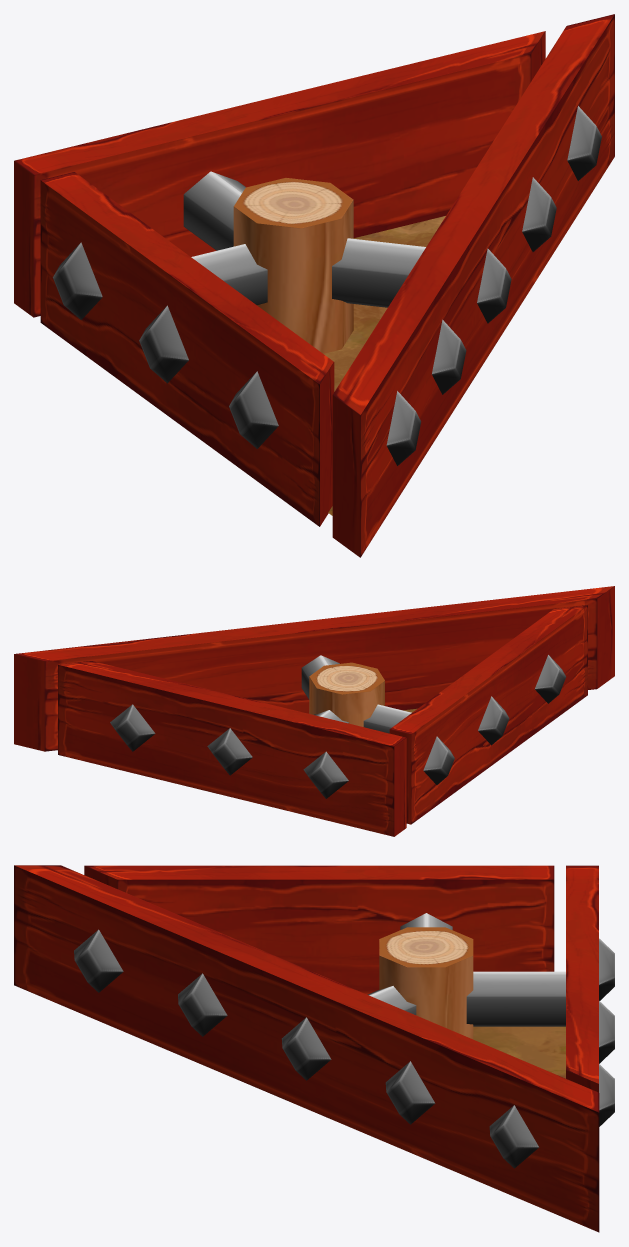
Rendered from triangle_red_03.fbx.
3 views of the same model, one above another, from view 1: azimuth 30°, elevation 25°; view 2: azimuth 150°, elevation 25°; view 3: azimuth 270°, elevation 25° (orthographic). The views are drawn at different scales.
Parts seen in each view (by area): view 1: wall_54, wall_52, wall_53, Middle_7, floor_6; view 2: wall_52, wall_54, wall_53, Middle_7; view 3: wall_54, wall_53, wall_52, Middle_7, floor_6.
Boxes of the visible parts, x1=… form: wall_54: x1=332, y1=14, x2=614, y2=557; wall_52: x1=14, y1=31, x2=545, y2=317; wall_53: x1=40, y1=172, x2=334, y2=526; Middle_7: x1=233, y1=178, x2=353, y2=353; floor_6: x1=324, y1=216, x2=445, y2=515; wall_52: x1=58, y1=661, x2=406, y2=836; wall_54: x1=14, y1=586, x2=614, y2=751; wall_53: x1=363, y1=605, x2=587, y2=824; Middle_7: x1=309, y1=662, x2=384, y2=726; wall_54: x1=14, y1=865, x2=599, y2=1232; wall_53: x1=84, y1=865, x2=554, y2=994; wall_52: x1=466, y1=865, x2=614, y2=1126; Middle_7: x1=379, y1=927, x2=473, y2=1039; floor_6: x1=473, y1=1026, x2=565, y2=1078.
Bounding box in the file's own units: 182 × 40 × 182.
